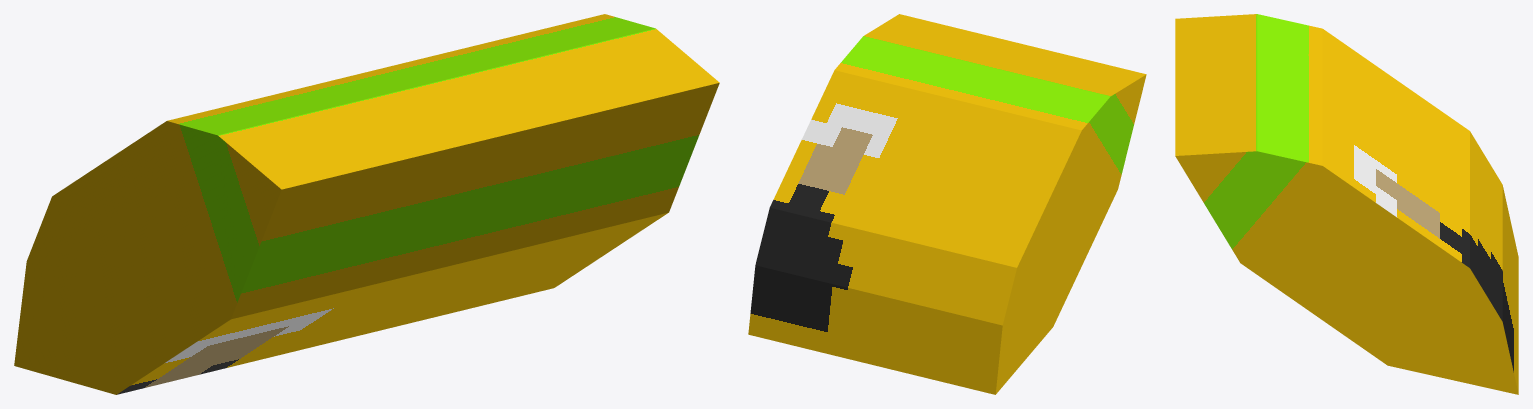
The model's file is fertilizer.obj.
3 renders of one model, left to right at view 1: azimuth 30°, elevation 25°; view 2: azimuth 150°, elevation 25°; view 3: azimuth 270°, elevation 25°, orthographic. The views are drawn at different scales.
Visible parts, largest first — view 1: cuboid; view 2: cuboid; view 3: cuboid.
Part boxes in pixels (bbox=[...]): cuboid: bbox=[14, 14, 719, 394]; cuboid: bbox=[748, 14, 1146, 394]; cuboid: bbox=[1175, 14, 1518, 394].
Bounding box in the file's own units: 0.75 × 0.621 × 0.7934.
1 material, 1 textured.
